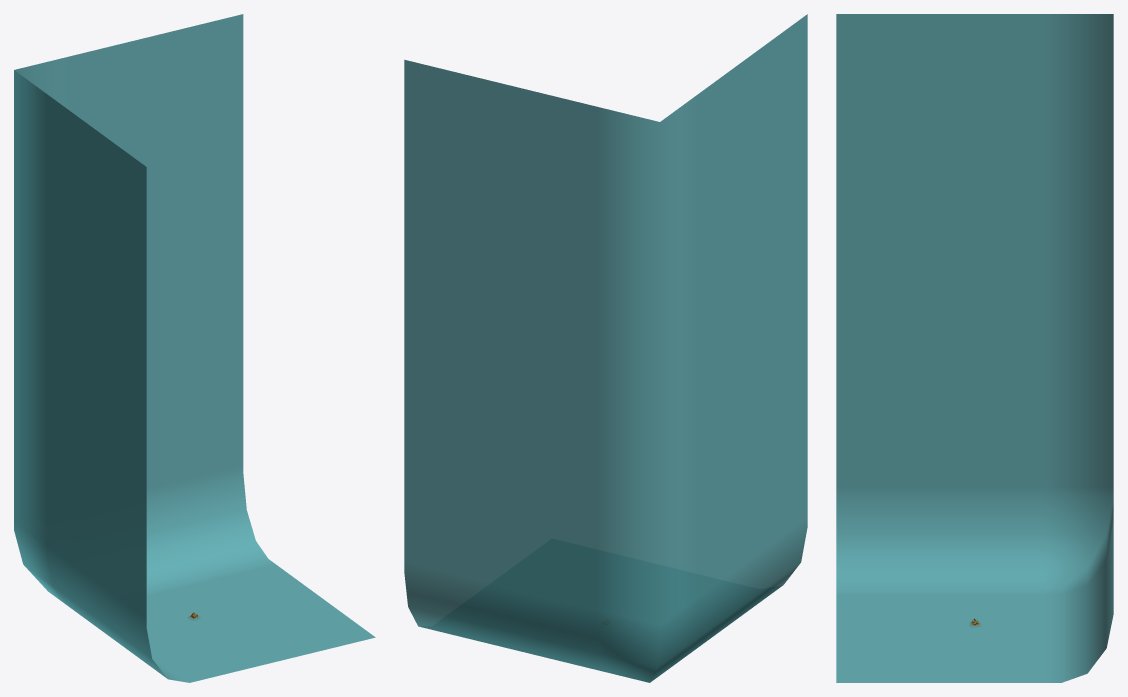
Rendered from HutOnIsland.glb.
The picture shows the model from 3 angles, left to right: view 1: azimuth 30°, elevation 25°; view 2: azimuth 150°, elevation 25°; view 3: azimuth 270°, elevation 25°; orthographic projection. The views are drawn at different scales.
Parts seen in each view (by area): view 1: Plane.008; view 2: Plane.008; view 3: Plane.008.
Part boxes in pixels (<box>): Plane.008: <box>14,14,375,682</box>; Plane.008: <box>404,14,807,682</box>; Plane.008: <box>836,14,1113,682</box>.
Size of the model in its own units: 268 by 589 by 268.
